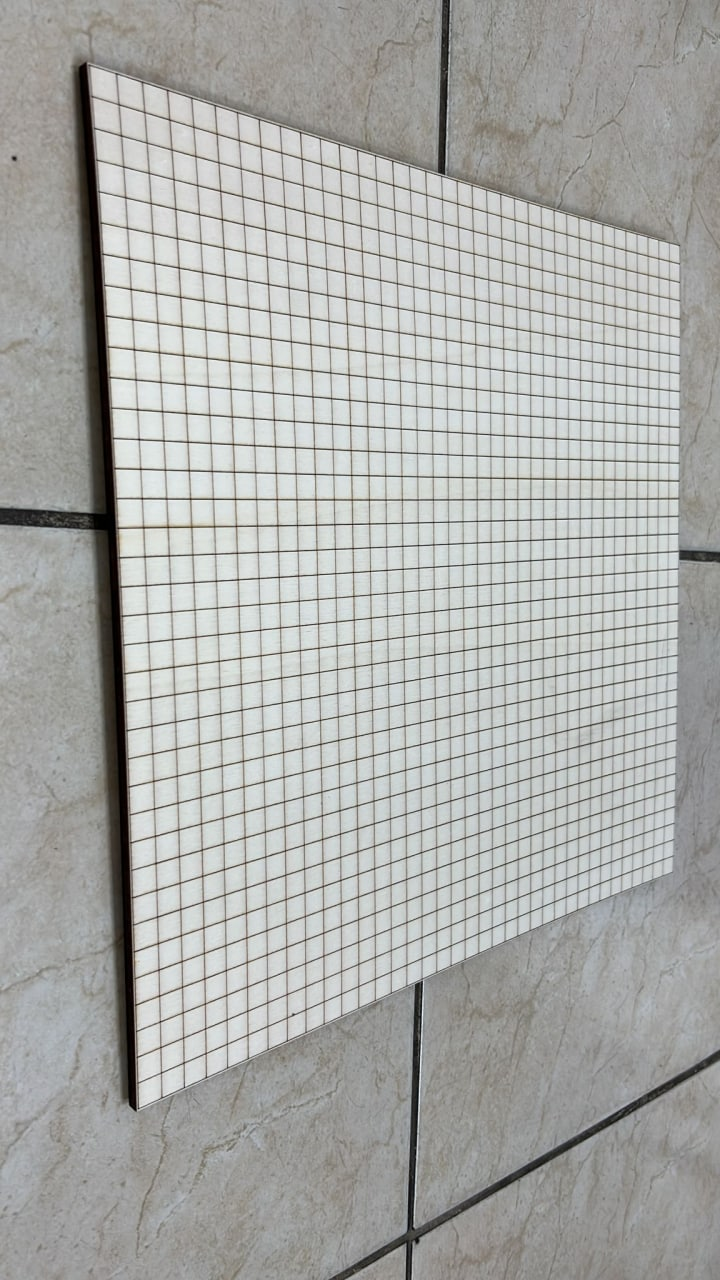grid: (56, 49, 690, 1126)
